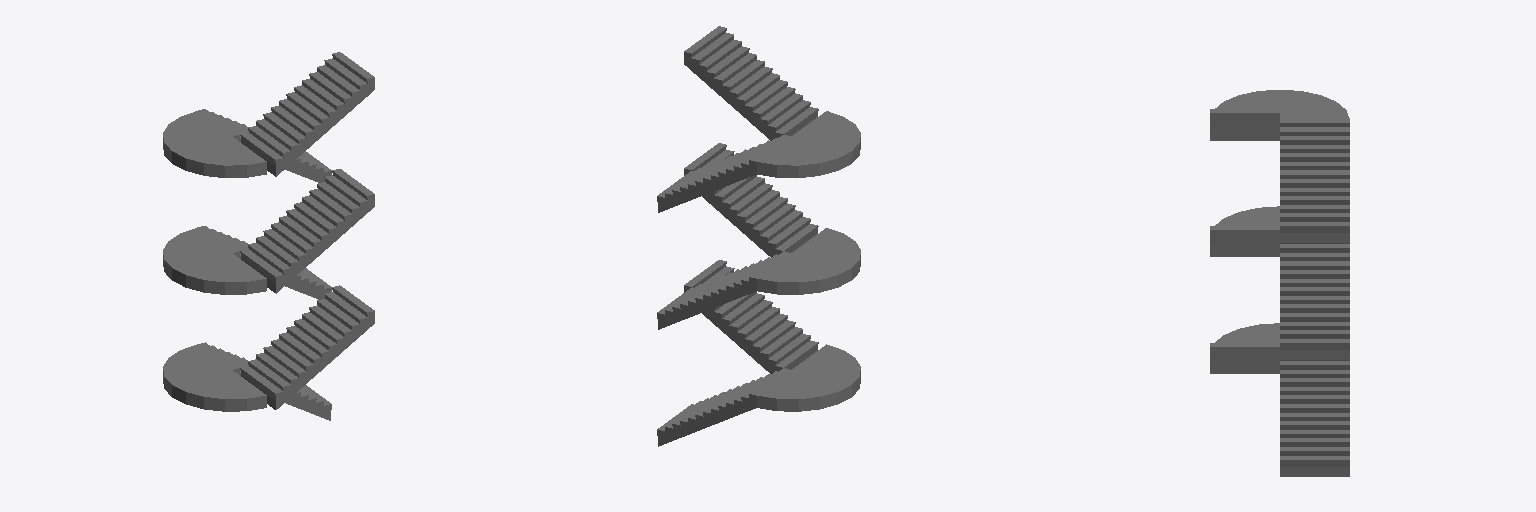
Rendered from Staircase_V3_Hite.obj.
3 views of the same model, side by side, from view 1: azimuth 30°, elevation 25°; view 2: azimuth 150°, elevation 25°; view 3: azimuth 270°, elevation 25° (orthographic).
Parts seen in each view (by area): view 1: polySurface11; view 2: polySurface11; view 3: polySurface11.
Part boxes in pixels (left/top/right/bottom): polySurface11: left=163, top=52, right=374, bottom=420; polySurface11: left=657, top=26, right=860, bottom=446; polySurface11: left=1210, top=90, right=1349, bottom=476.
Size of the model in its own units: 325 by 678 by 234.